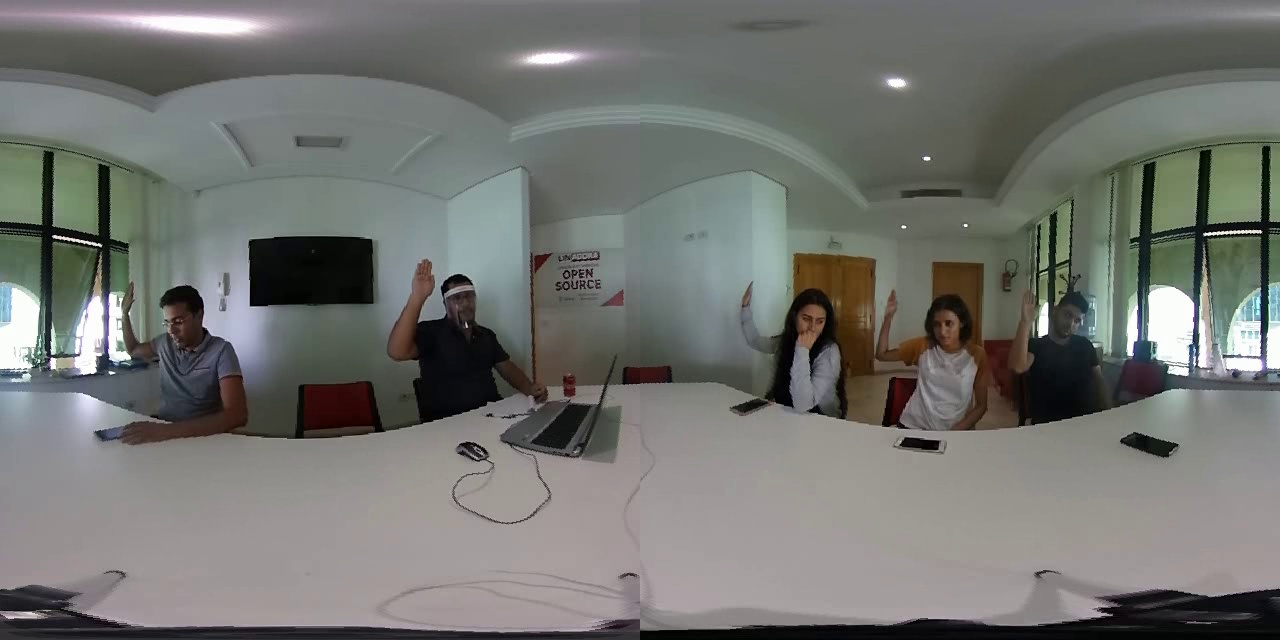person: (99, 283, 257, 445), (389, 252, 538, 413), (726, 271, 861, 417), (1005, 282, 1131, 421), (875, 290, 996, 421)
voting: (387, 252, 444, 354), (106, 285, 157, 370), (1002, 272, 1041, 378), (874, 281, 918, 370), (732, 267, 774, 358)
